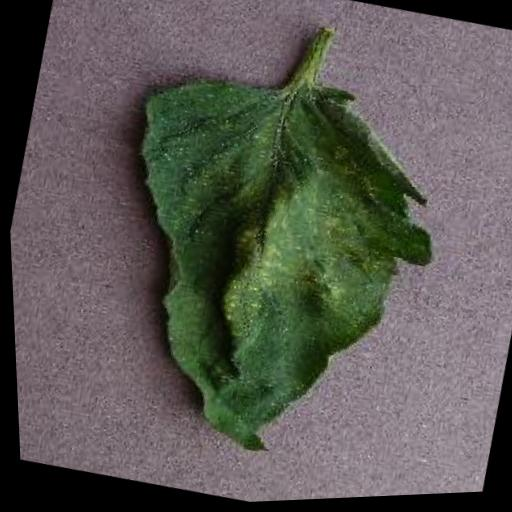Spider Mites: (68, 46, 473, 492)
